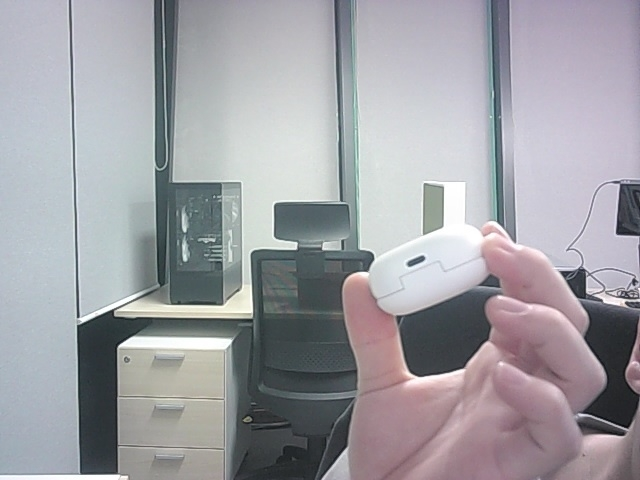case: (370, 224, 488, 315)
